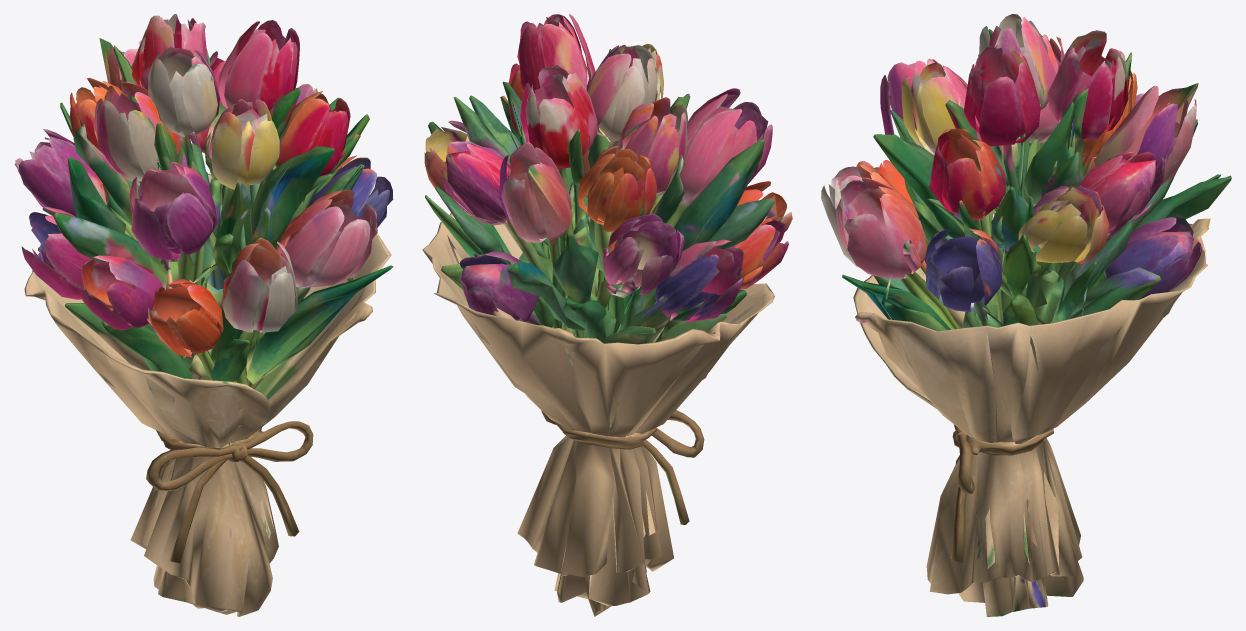
Rendered from tulip-pink.glb.
3 renders of one model, left to right at view 1: azimuth 30°, elevation 25°; view 2: azimuth 150°, elevation 25°; view 3: azimuth 270°, elevation 25°, orthographic. The views are drawn at different scales.
Size of the model in its own units: 0.5757 by 0.9512 by 0.604.
Materials: 1 (1 with a texture image).
